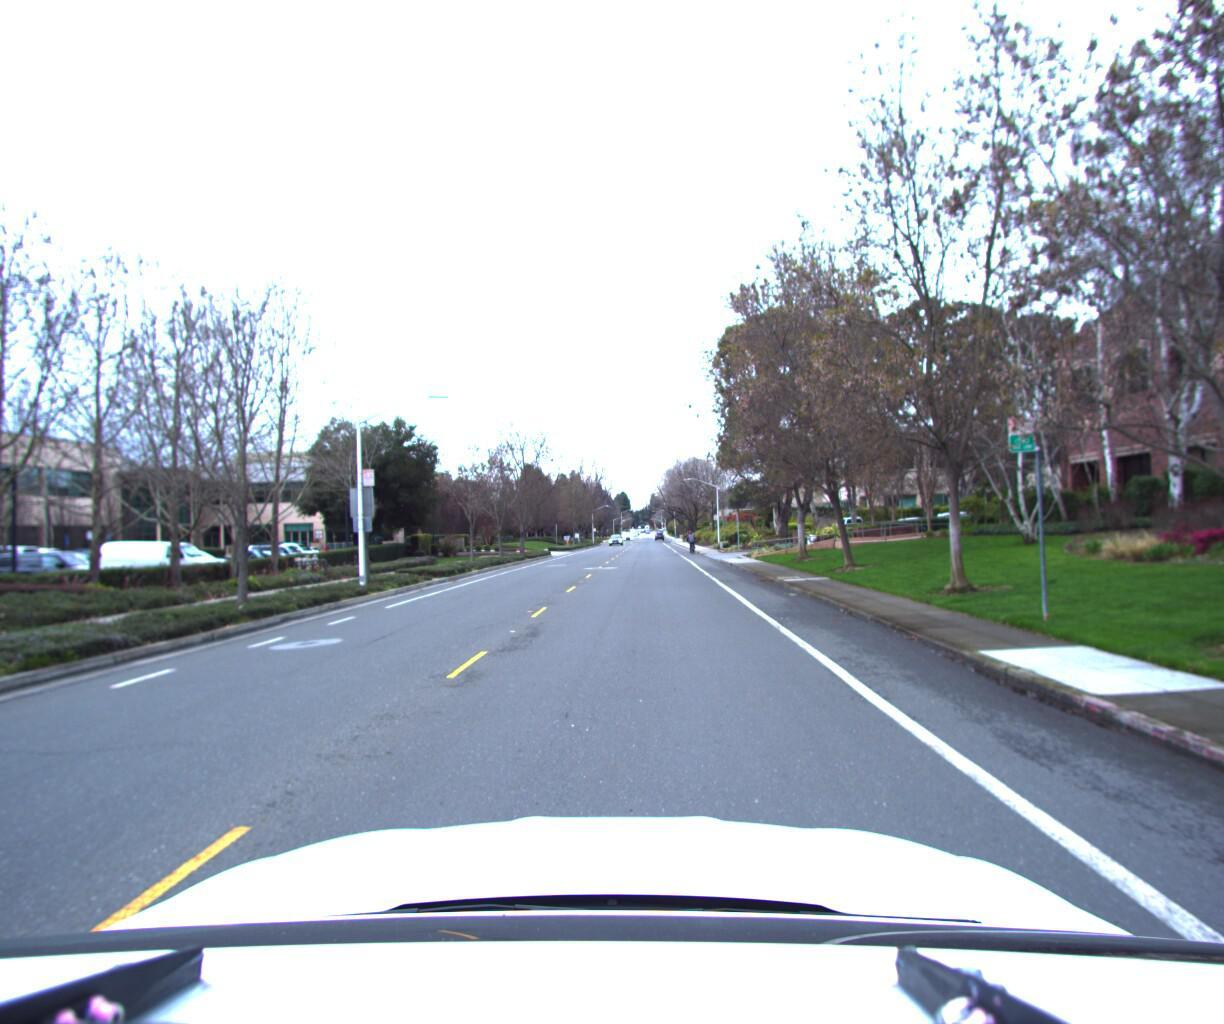bicycle: (682, 529, 699, 556)
